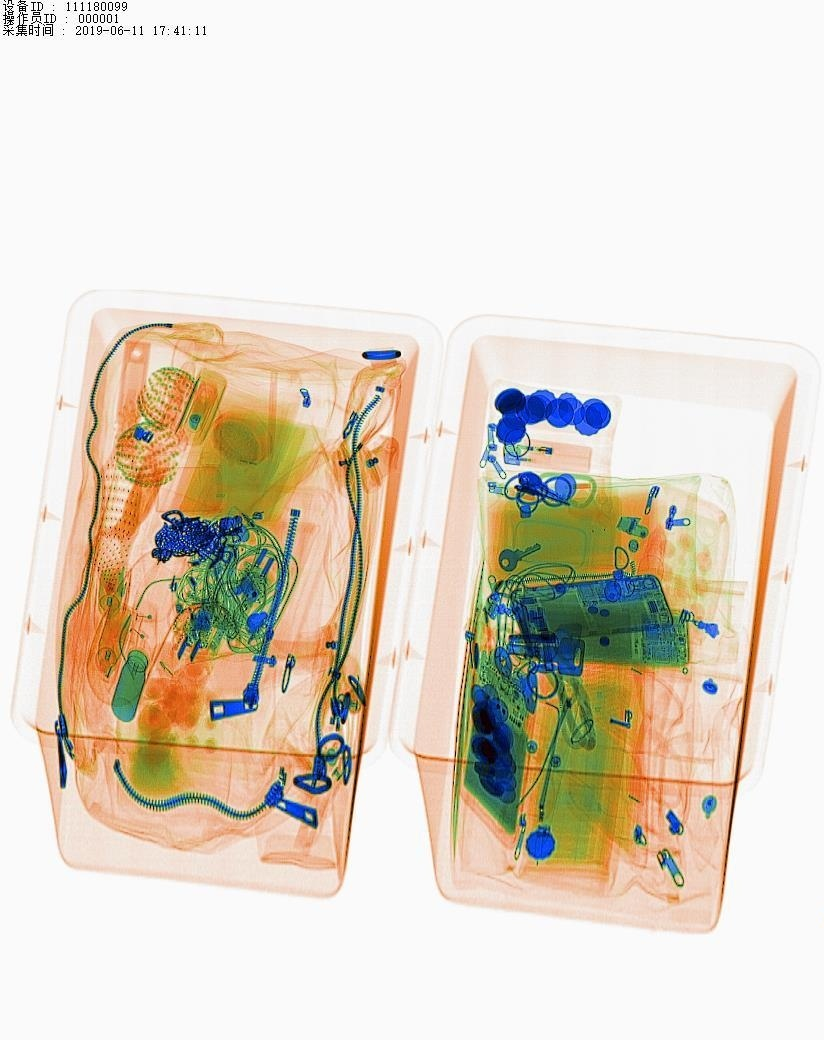NonmetallicFire: (481, 431, 622, 493)
